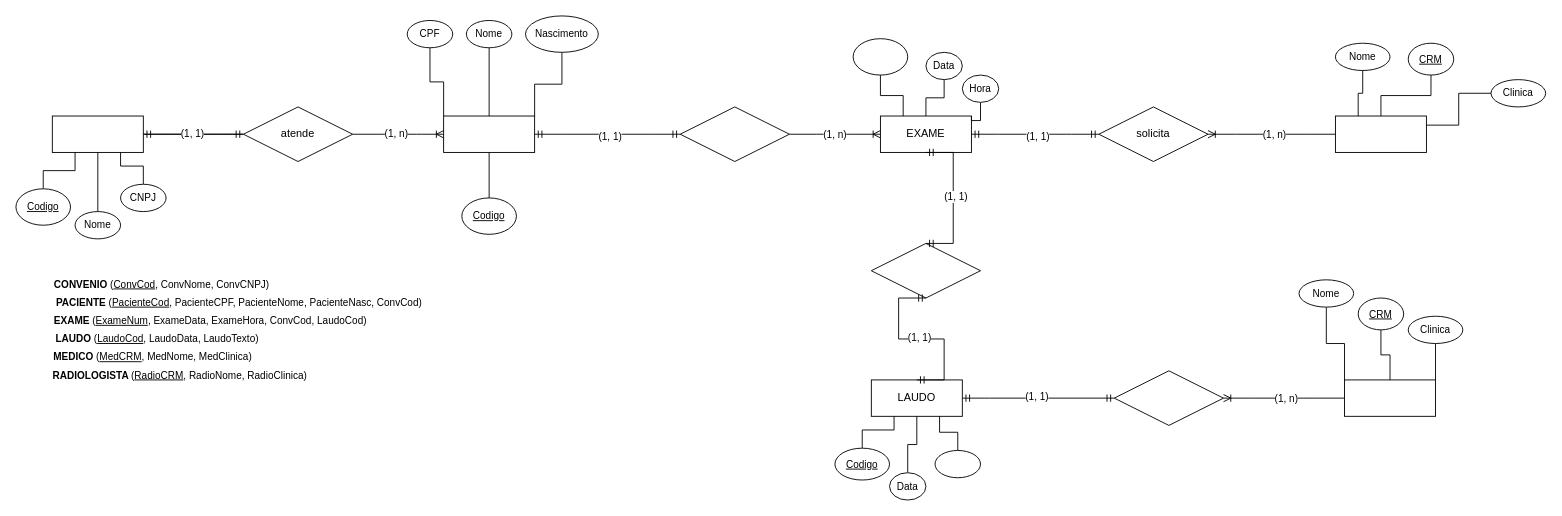
Some shapes in this 1562 by 516 pixel diagram are drawn without their labels. Each missing label, with the box of its shape:
CONVÊNIO: (51, 115, 143, 152)
emite: (1113, 370, 1223, 425)
MÉDICO: (1335, 115, 1426, 152)
Numero: (852, 38, 908, 75)
PACIENTE: (443, 115, 535, 152)
possui: (870, 243, 981, 298)
RADIOLOGISTA: (1344, 379, 1436, 416)
realiza: (679, 106, 789, 162)
Texto: (934, 450, 981, 478)
